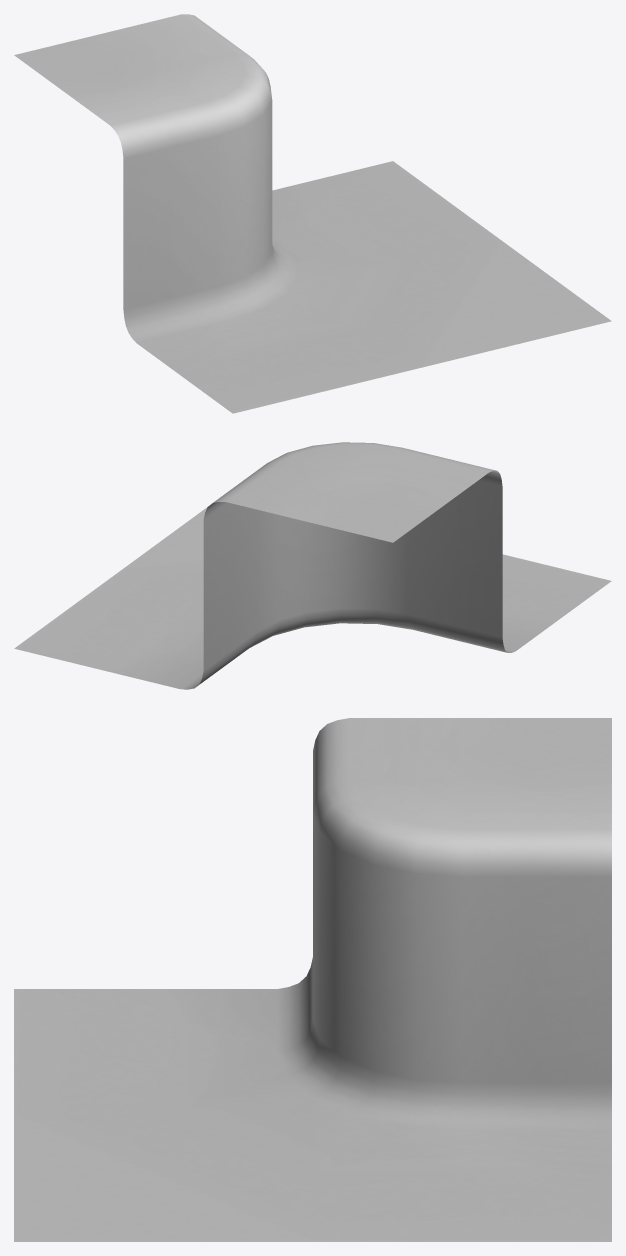
File: edge_outer.fbx
The picture shows the model from 3 angles, top to bottom: view 1: azimuth 30°, elevation 25°; view 2: azimuth 150°, elevation 25°; view 3: azimuth 270°, elevation 25°; orthographic projection. The views are drawn at different scales.
Visible parts, largest first — view 1: Edge_Outer; view 2: Edge_Outer; view 3: Edge_Outer.
Boxes of the visible parts, x1,y1,x2,y2 form: Edge_Outer: (14, 14, 611, 413); Edge_Outer: (14, 442, 611, 689); Edge_Outer: (14, 718, 611, 1241).
Bounding box in the file's own units: 200 × 100 × 200.
